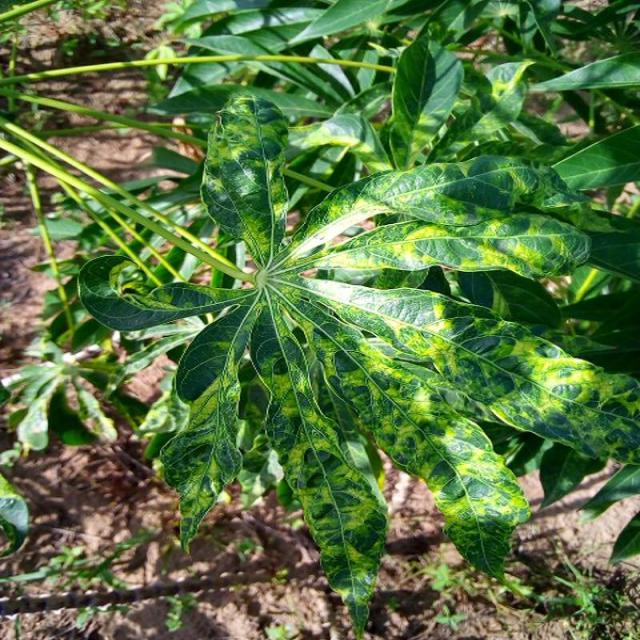cassava leaf: (75, 88, 638, 634)
